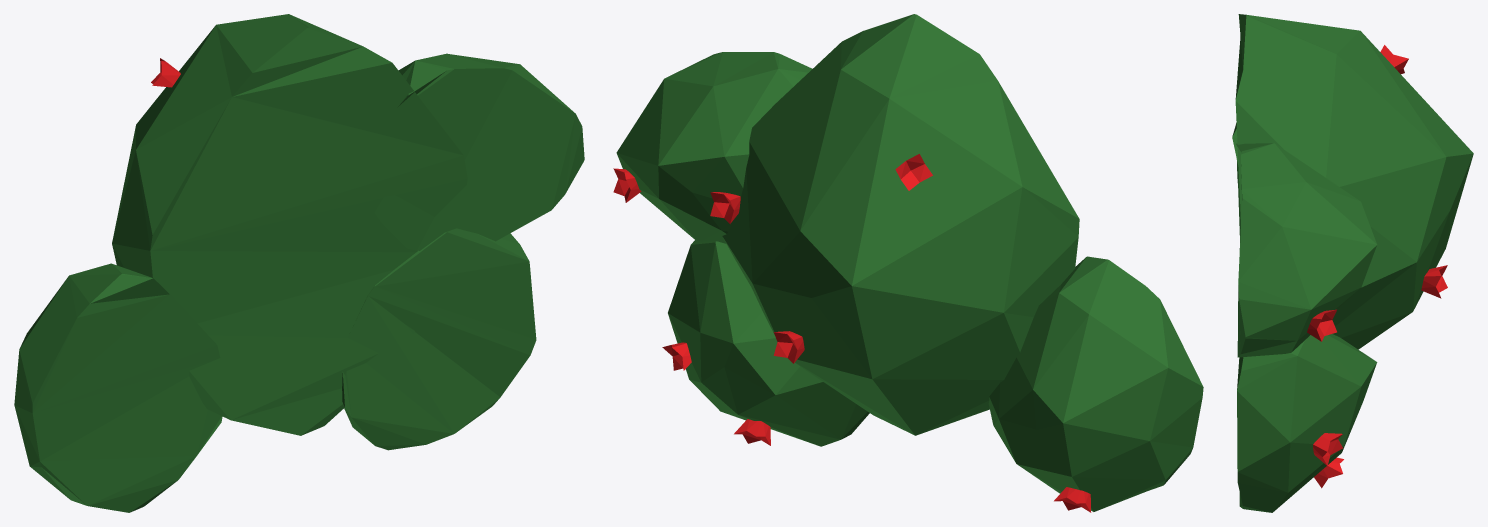
File: bush2.dae
The picture shows the model from 3 angles, left to right: view 1: azimuth 30°, elevation 25°; view 2: azimuth 150°, elevation 25°; view 3: azimuth 270°, elevation 25°; orthographic projection. The views are drawn at different scales.
Parts seen in each view (by area): view 1: Bush1.3; view 2: Bush1.3; view 3: Bush1.3.
Boxes of the visible parts, bbox=[...] form: Bush1.3: bbox=[14, 14, 584, 512]; Bush1.3: bbox=[613, 14, 1203, 512]; Bush1.3: bbox=[1232, 14, 1473, 512].
Bounding box in the file's own units: 3.86 × 1.5 × 2.94.
1 material, 1 textured.
